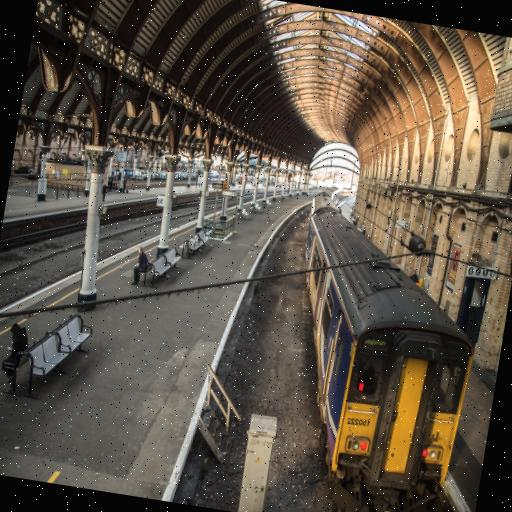platform_edge: (142, 244, 276, 512), (0, 200, 155, 351)
